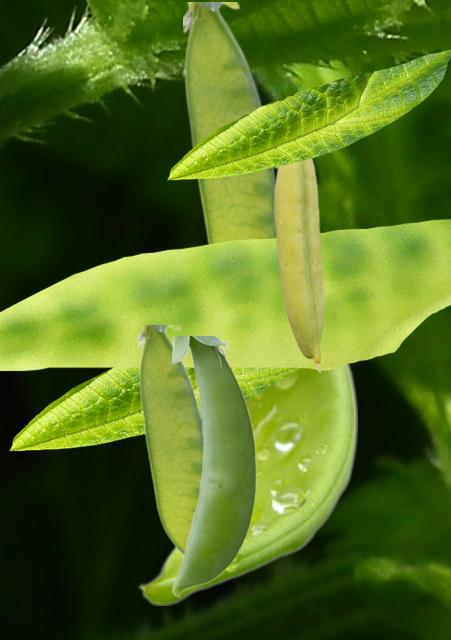pea: (137, 364, 356, 604), (183, 2, 275, 242), (172, 336, 255, 596), (138, 325, 201, 555), (273, 159, 324, 372)
